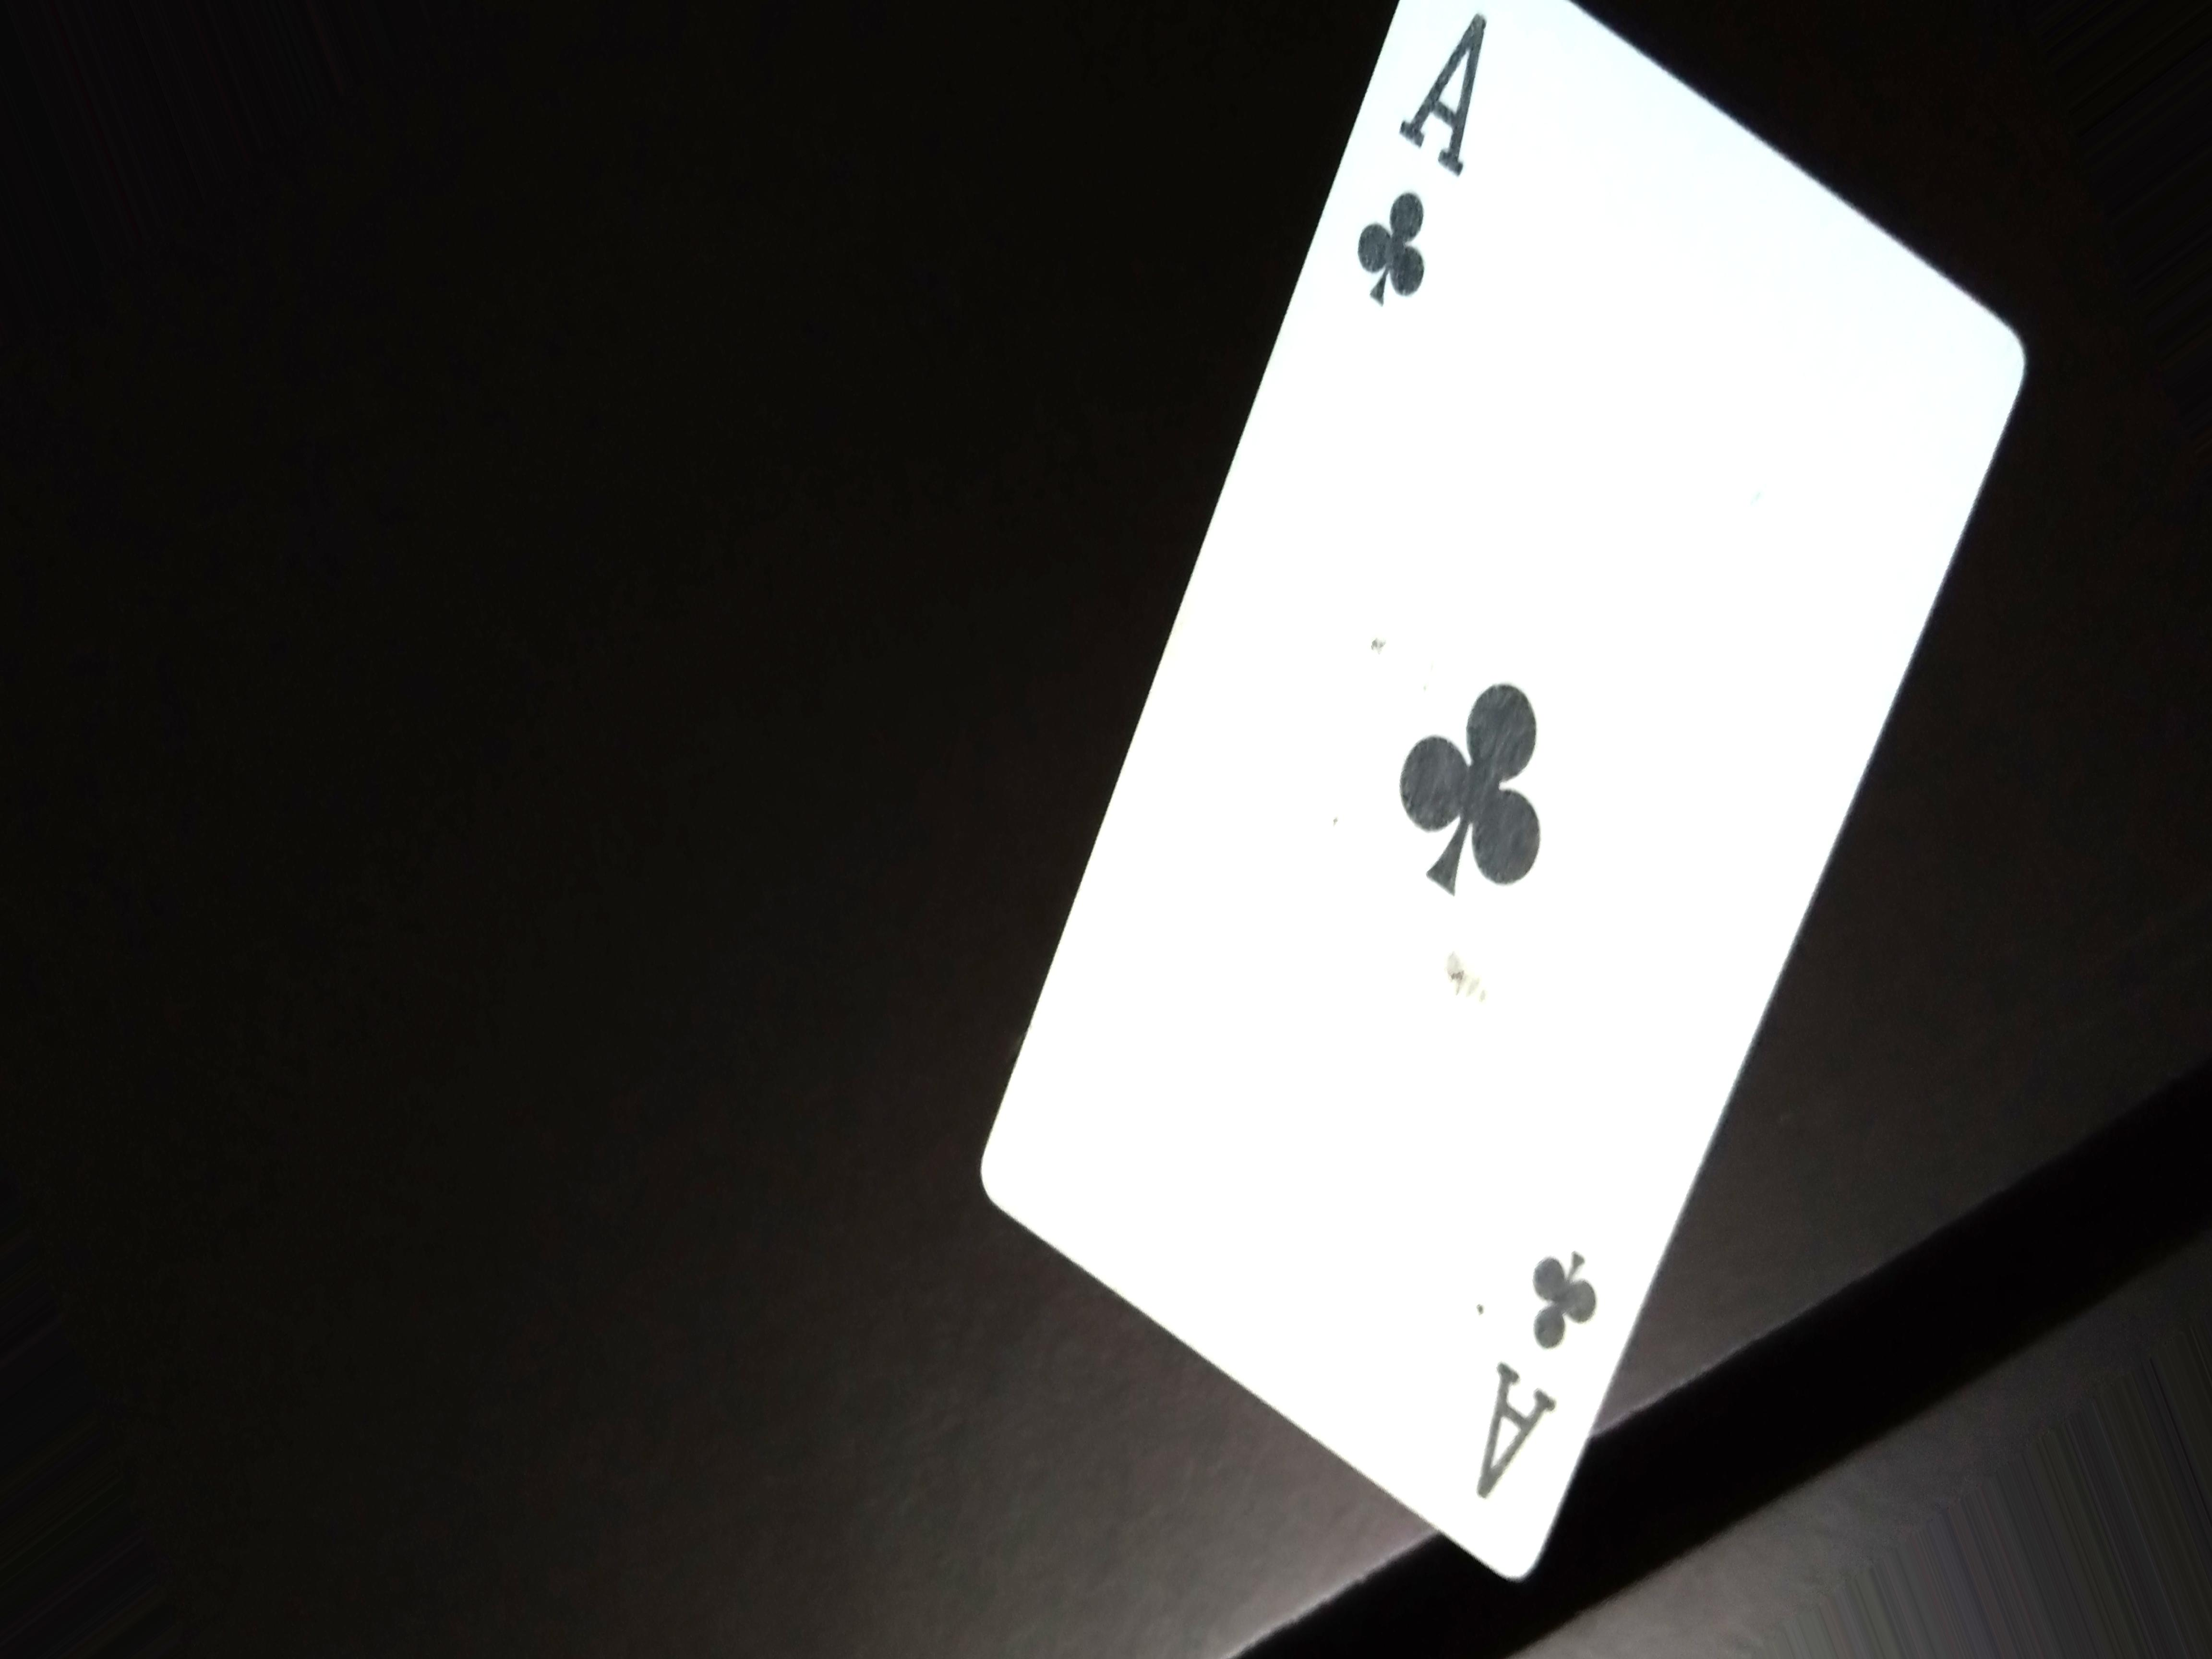AC: (1461, 1220, 1632, 1537)
